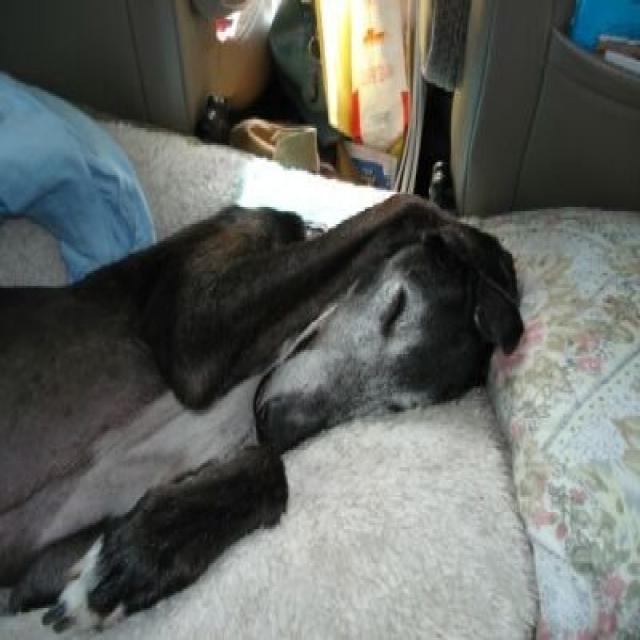dog: (0, 190, 522, 636)
